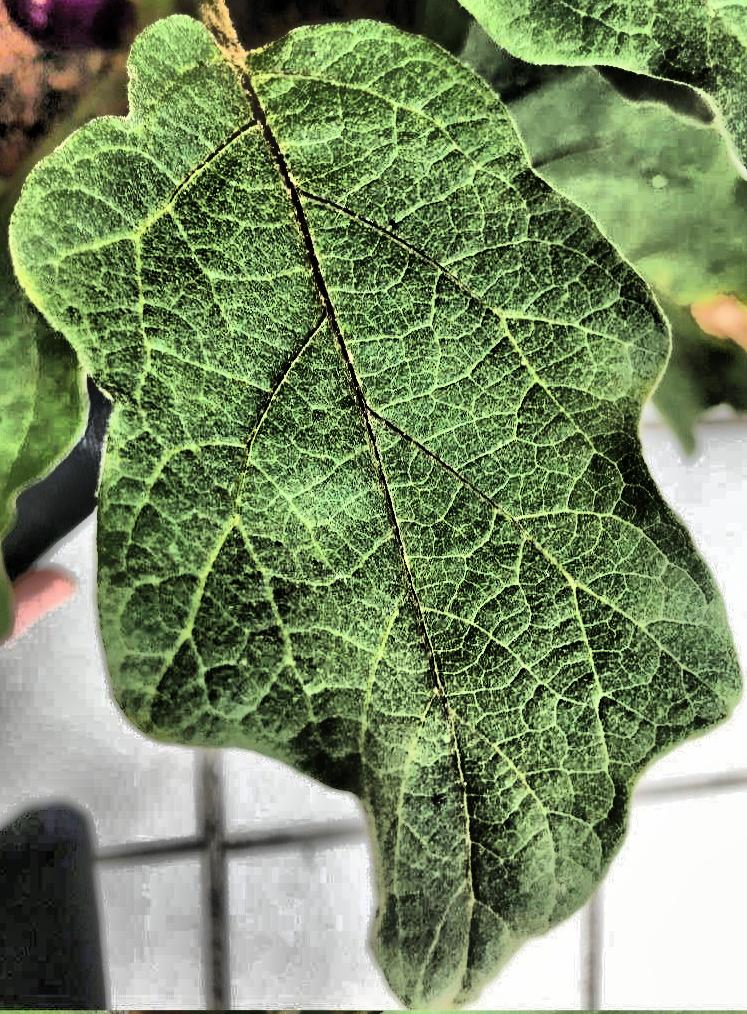HEALTHY: (0, 1, 747, 1014)
